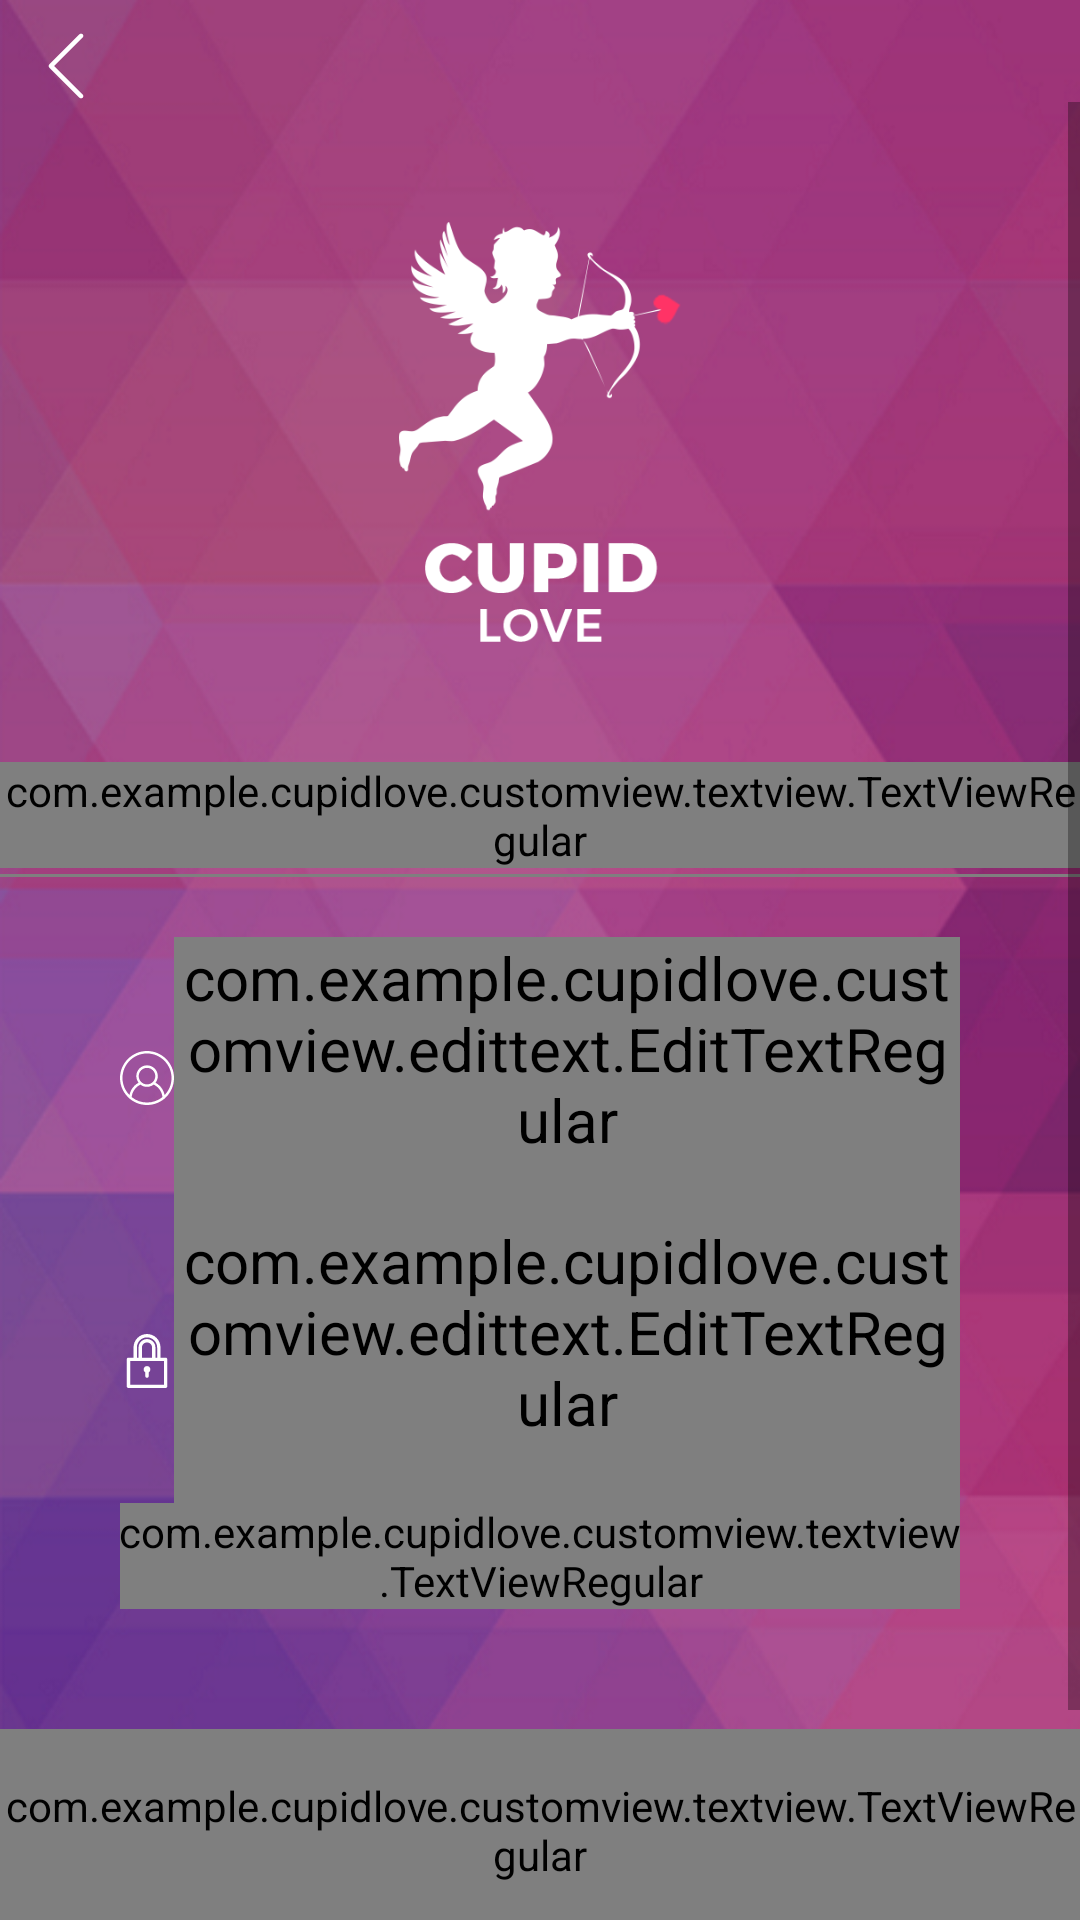

Screen size 1080×1920. Icon name, then its center in pixels as (x=x, y=y):
back arrow: (x=66, y=66)
